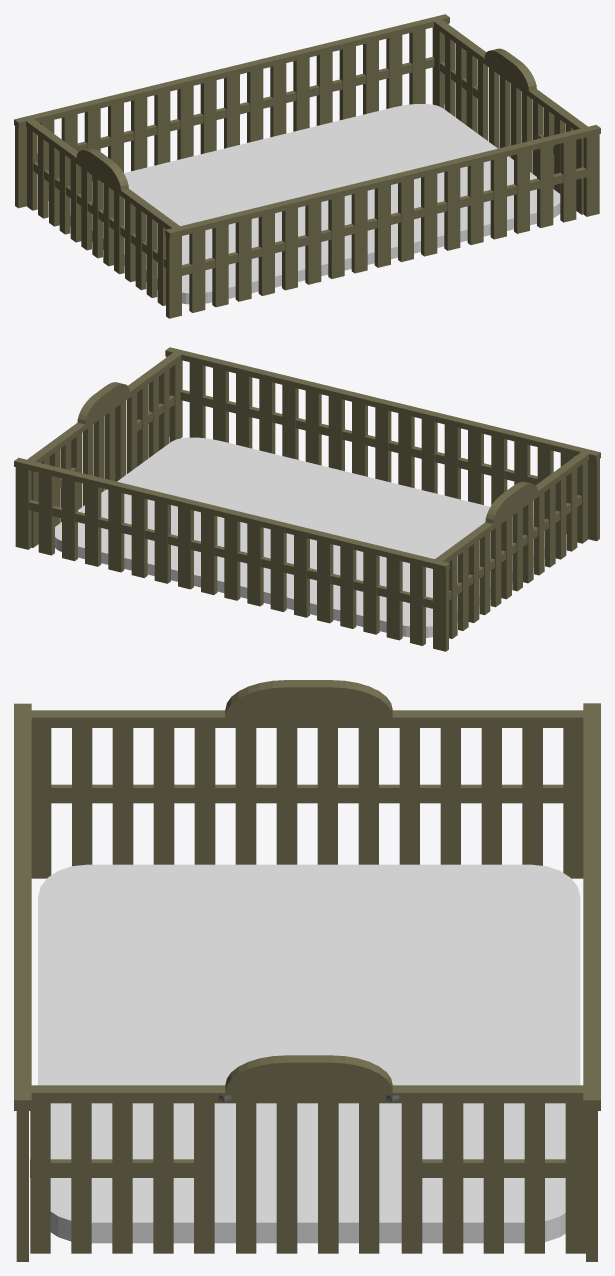
File: Crib.fbx
The picture shows the model from 3 angles, top to bottom: view 1: azimuth 30°, elevation 25°; view 2: azimuth 150°, elevation 25°; view 3: azimuth 270°, elevation 25°; orthographic projection. The views are drawn at different scales.
Parts seen in each view (by area): view 1: Bed, Cube.009, Cube.008; view 2: Bed, Cube.008, Cube.009; view 3: Bed, Cube.008, Cube.009.
Part boxes in pixels (x1,y1,x2,y2): Bed: (14, 14, 600, 318); Cube.009: (484, 48, 514, 156); Cube.008: (506, 57, 536, 173); Bed: (14, 347, 600, 651); Cube.008: (100, 382, 129, 490); Cube.009: (77, 390, 107, 506); Bed: (14, 680, 600, 1261); Cube.008: (218, 1055, 308, 1253); Cube.009: (309, 1055, 399, 1253).
Size of the model in its own units: 1122 by 254 by 701.
